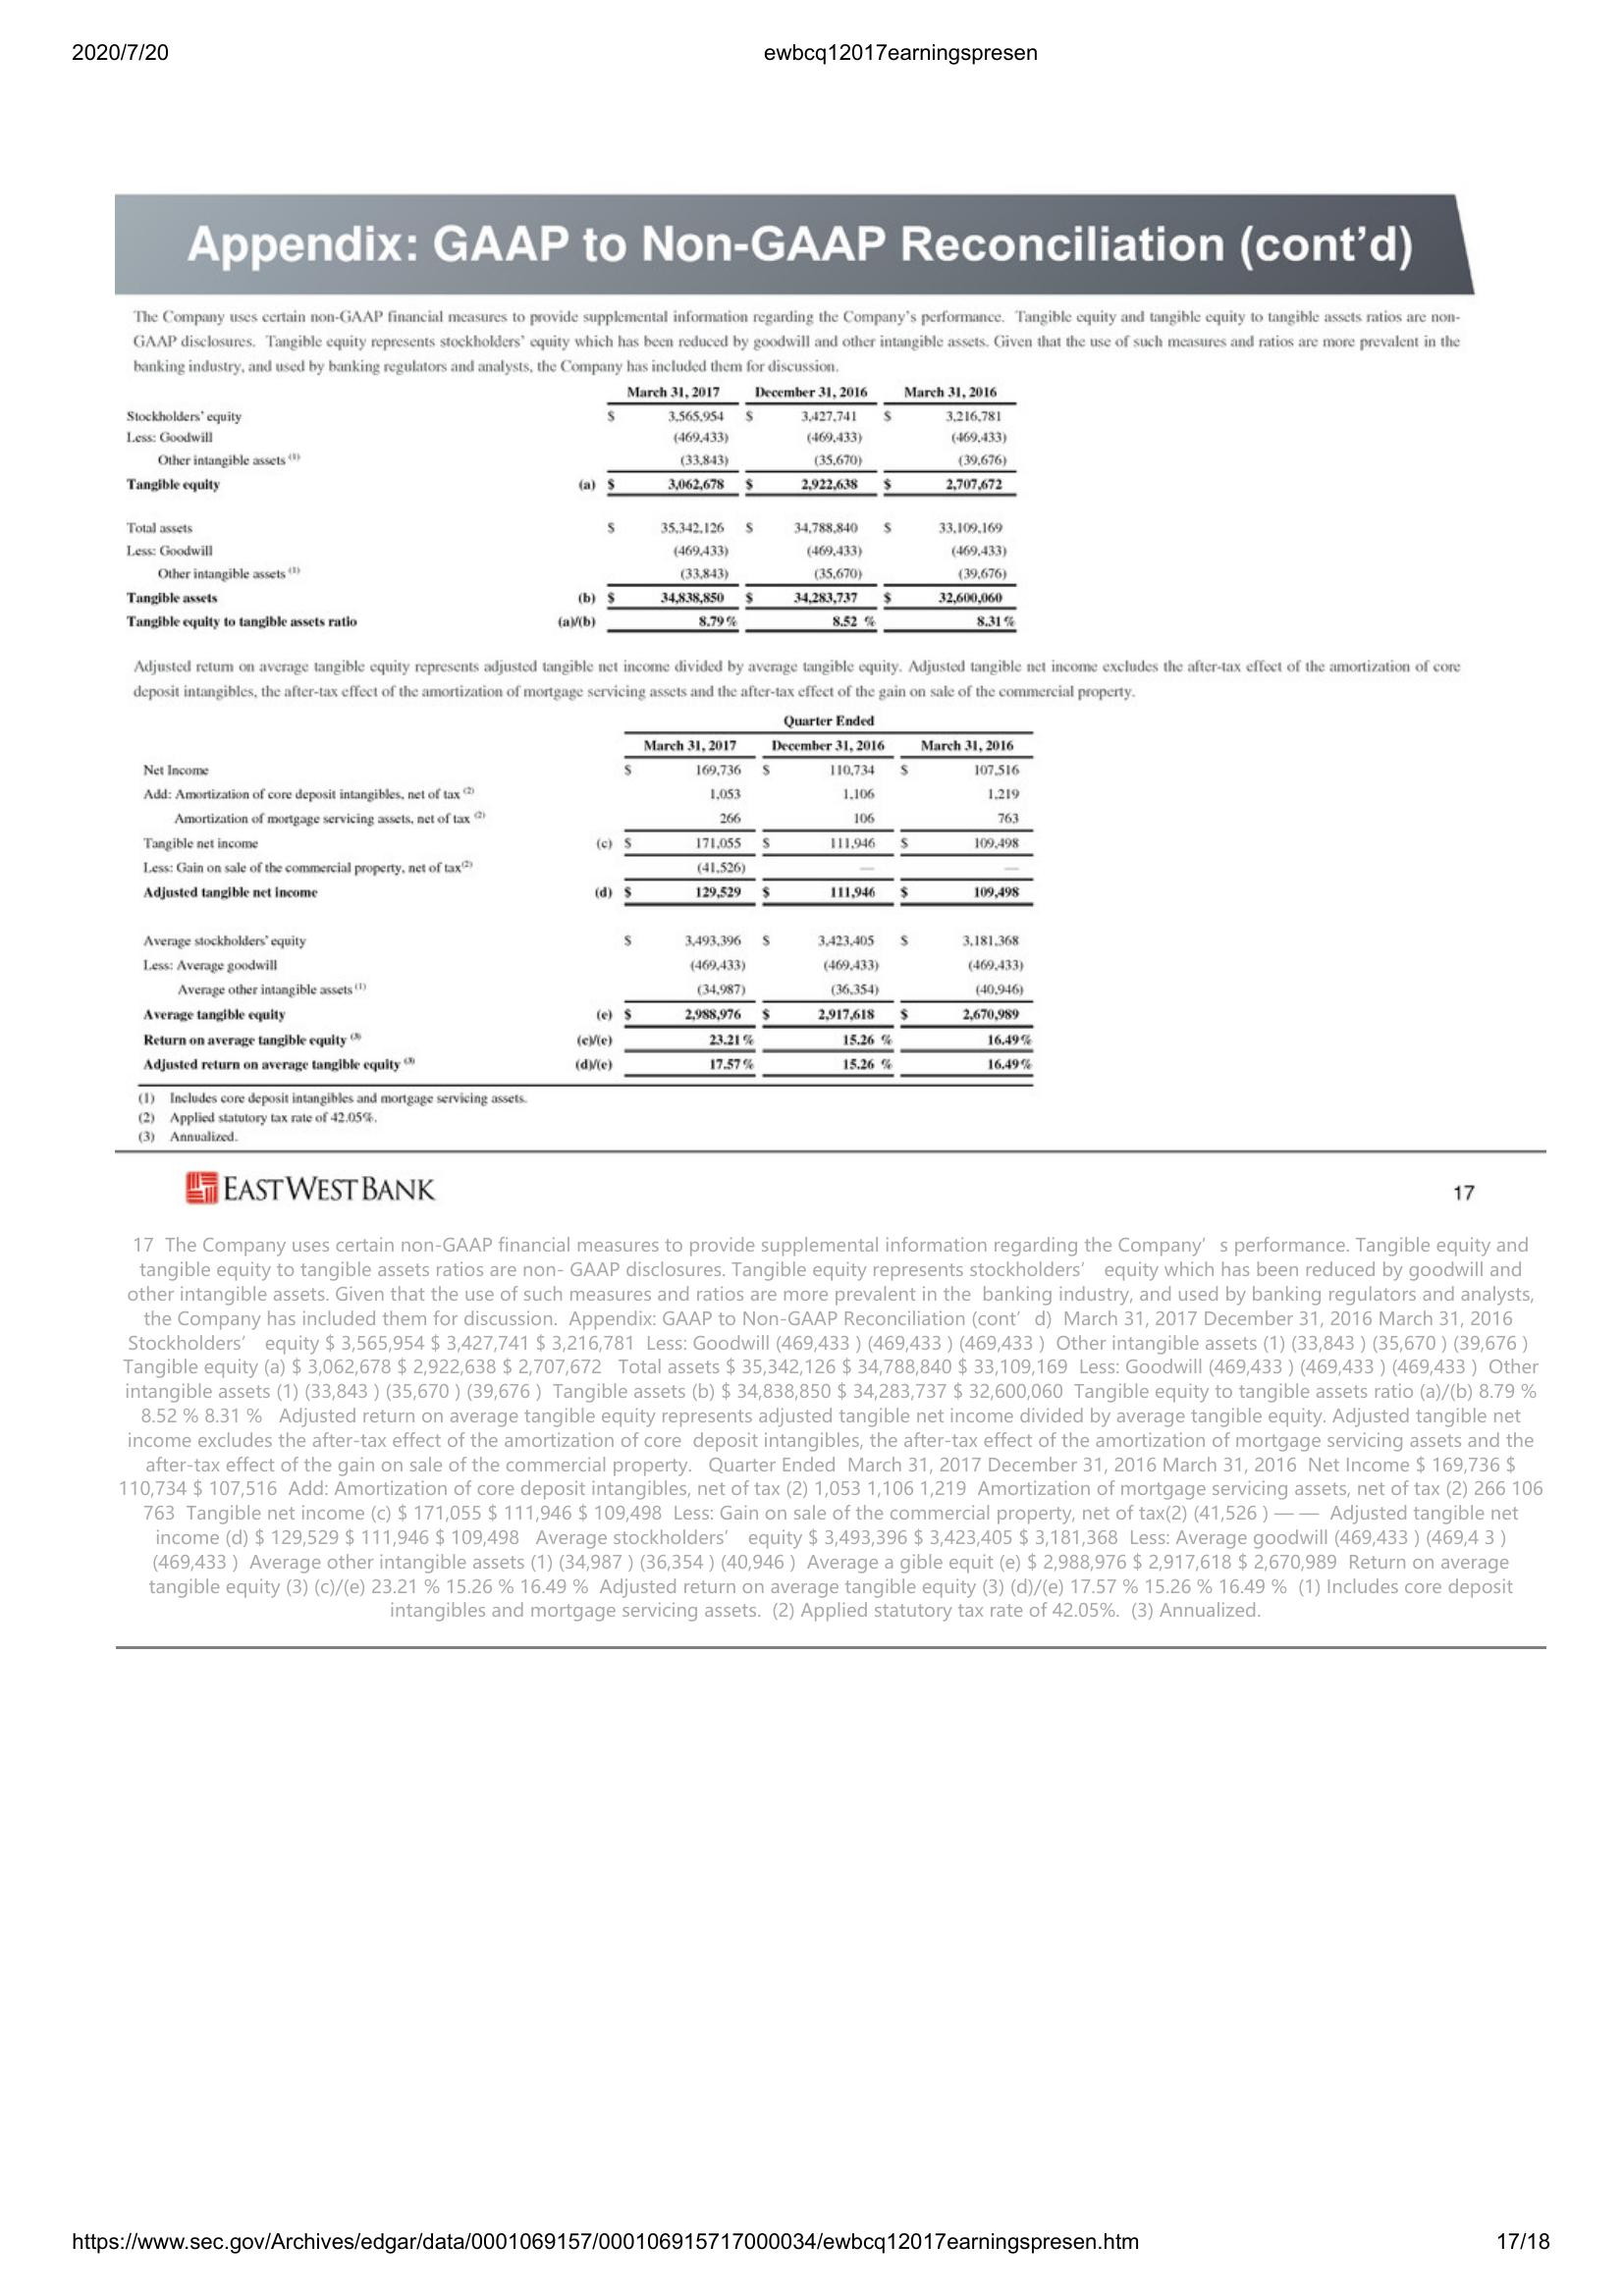table: (141, 706, 1047, 1095), (119, 379, 1021, 634)
